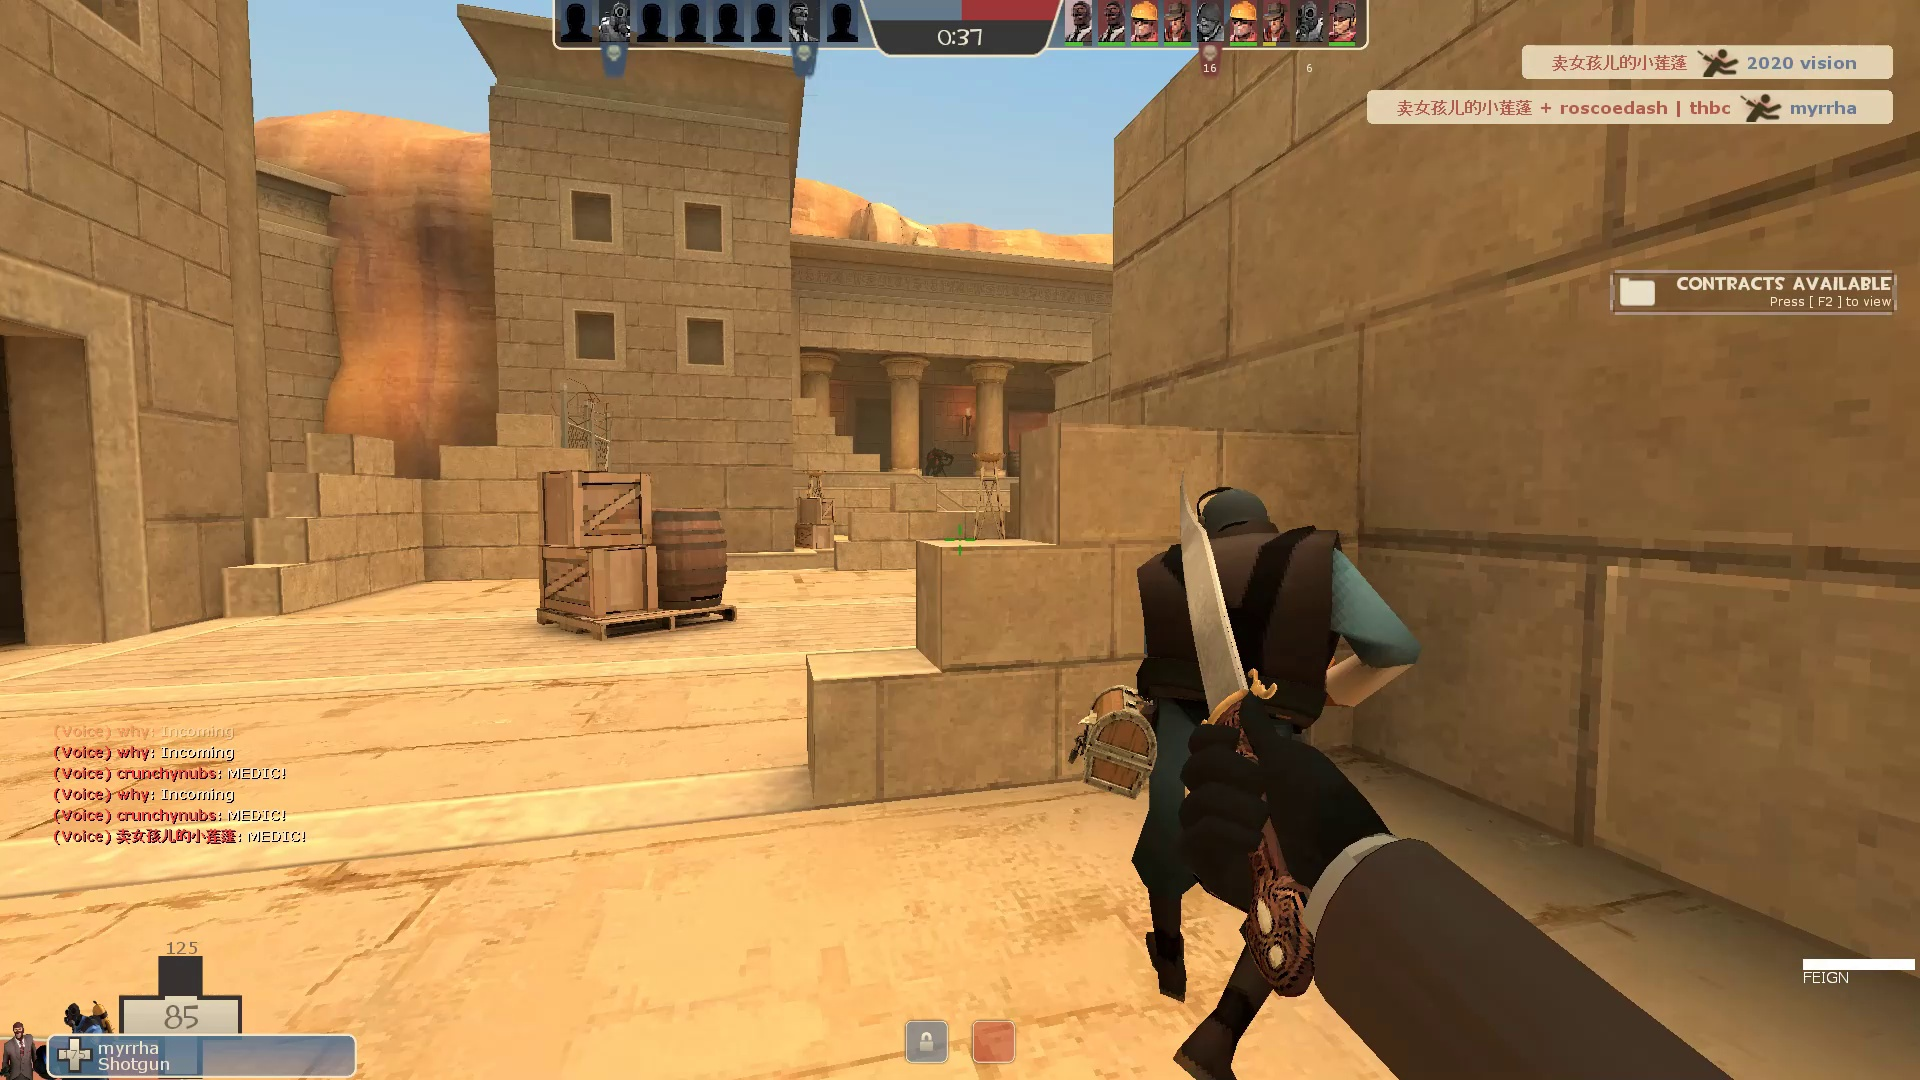blu_demo: (1077, 469, 1425, 1080)
